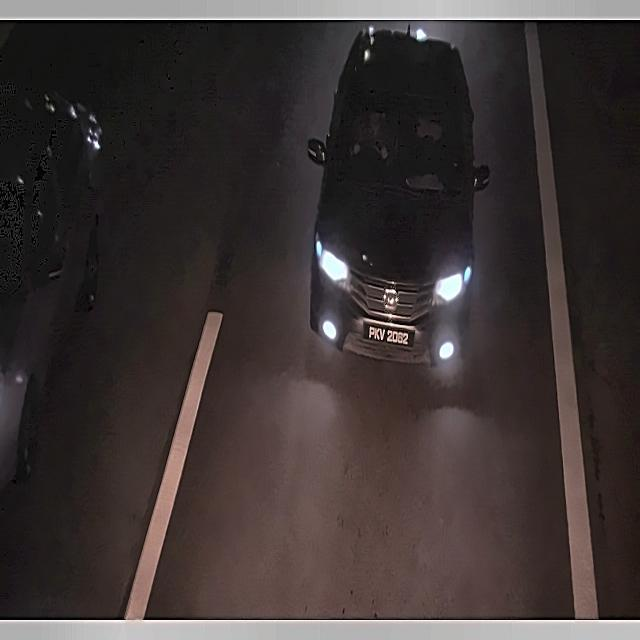car: (363, 316, 414, 355)
